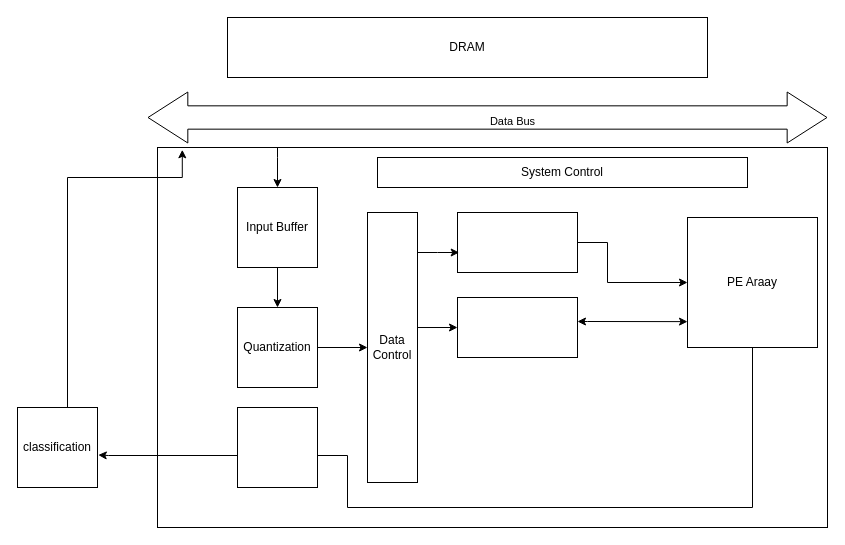
This 845x545 diagram has some shape labels left out. The shapes that lost their labels are listed below. From the top down, each one's box as (x1, y1, x2, y2) in pixels, then its label:
(456, 212, 578, 272): Kernel SRAM
(456, 296, 578, 358): Feature Map SRAM
(236, 406, 318, 488): De-Quantization
